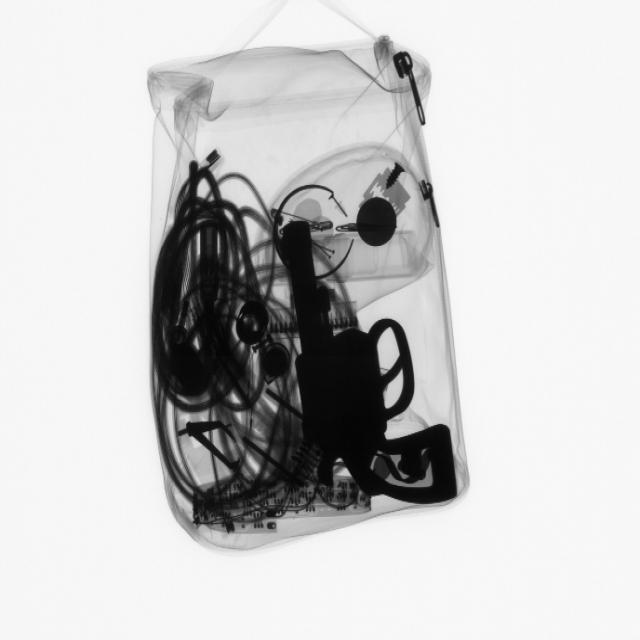BLADE: (365, 164, 413, 225)
GUN: (285, 227, 458, 515)
